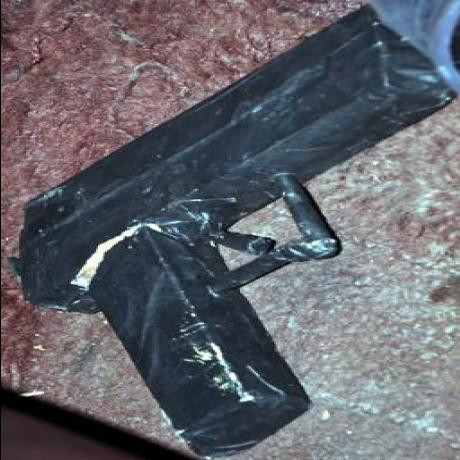weapon: (14, 4, 448, 448)
